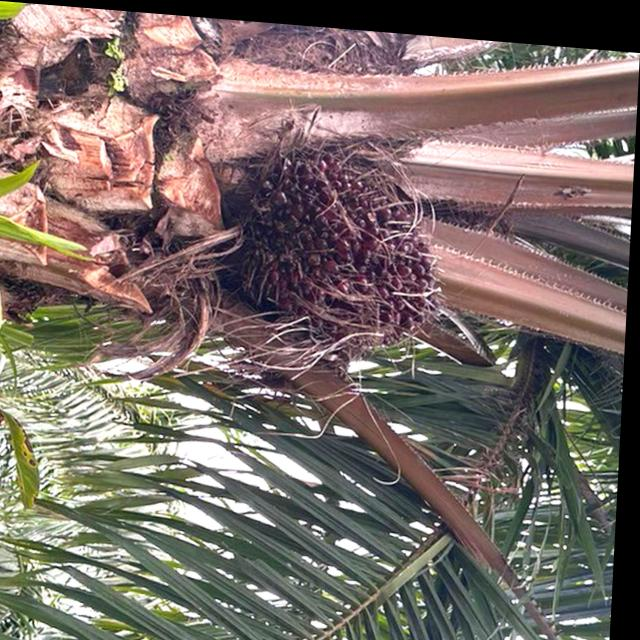ripe: (253, 149, 460, 348)
